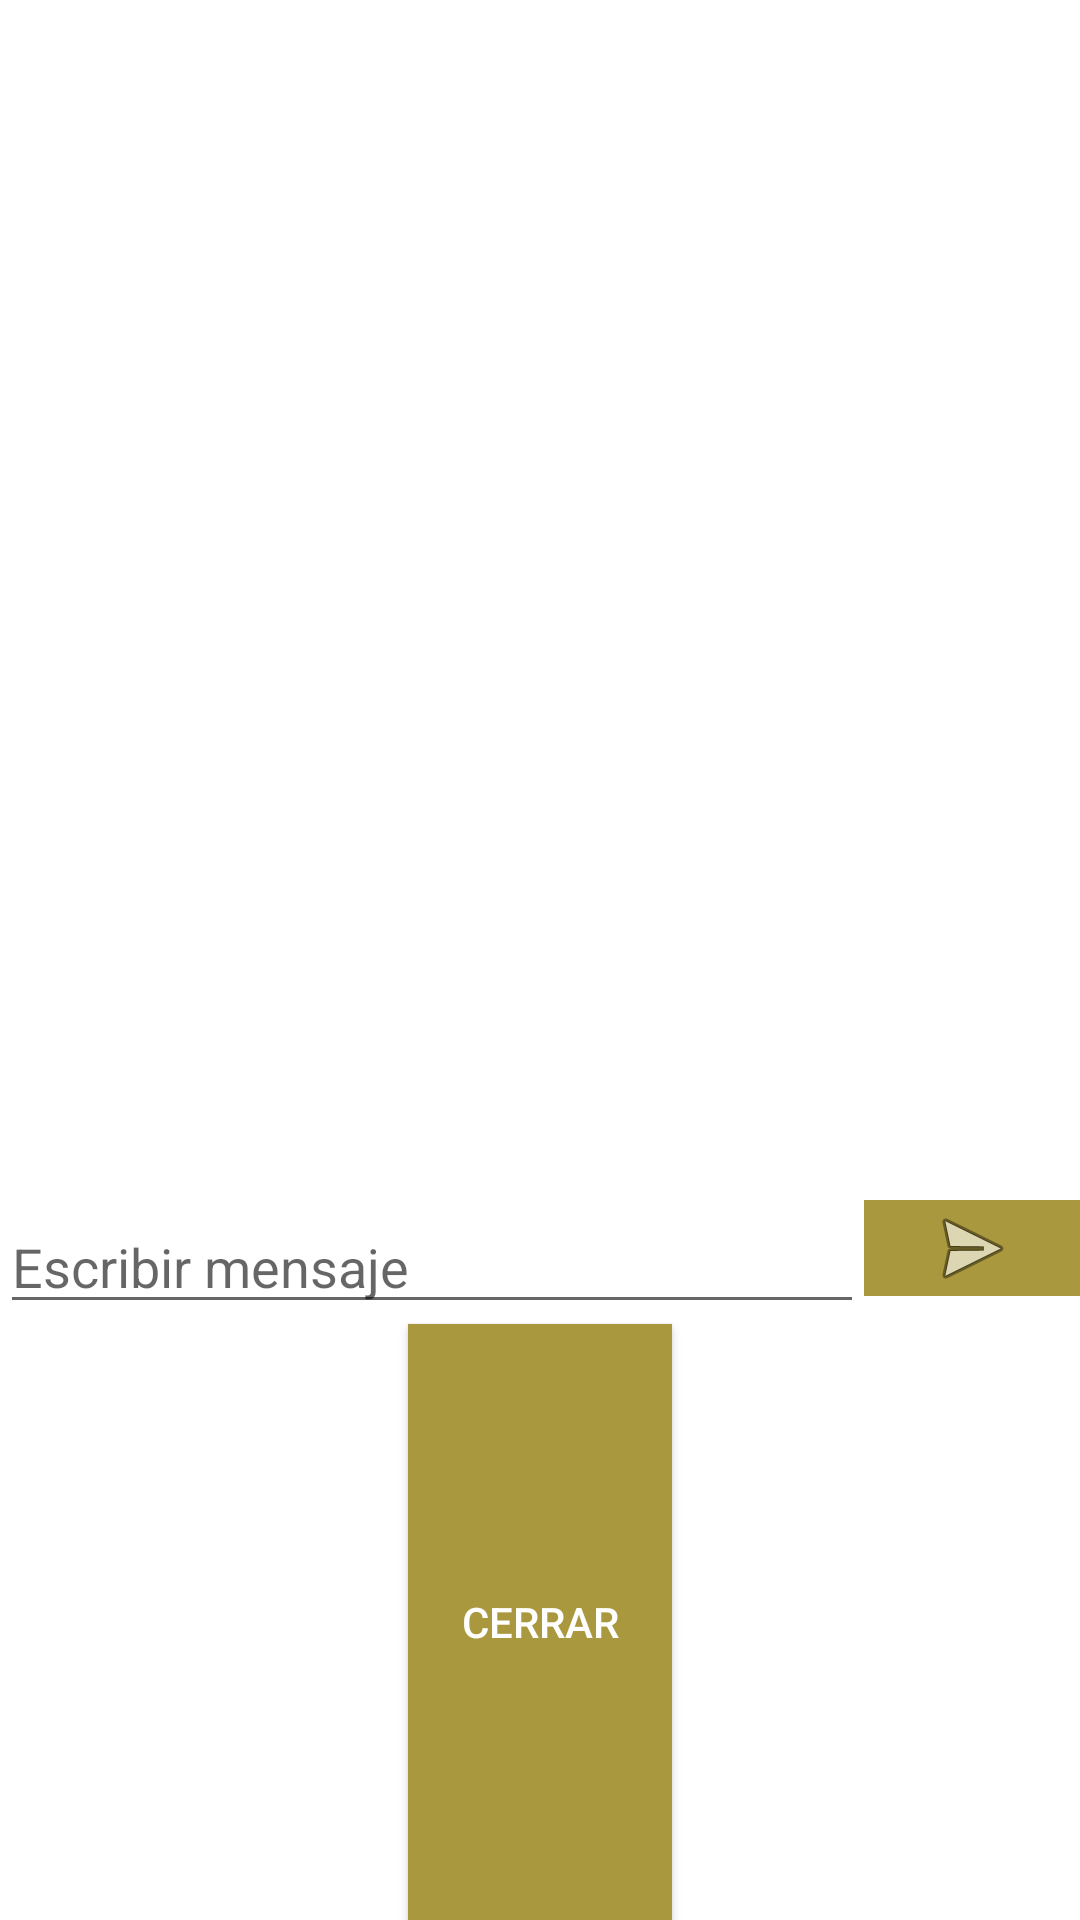

Screen size 1080px x 1920px. Icon name, then its box in pixels as (x1, y1, x2, y2):
send: (864, 1200, 1080, 1296)
